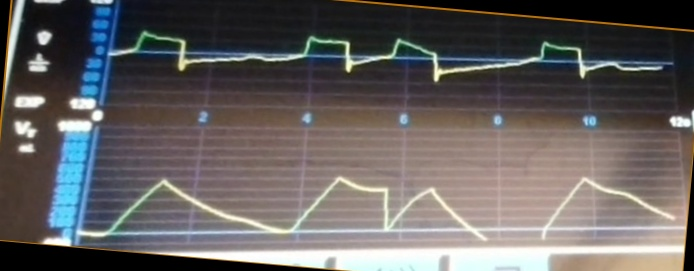Double_Triggering Flow: (114, 28, 642, 106)
Double_Triggering Volume: (88, 169, 673, 244)
